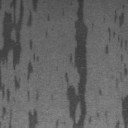red iron: (0, 0, 50, 128), (64, 0, 102, 128), (106, 9, 128, 54), (116, 96, 128, 128), (124, 68, 128, 75)
